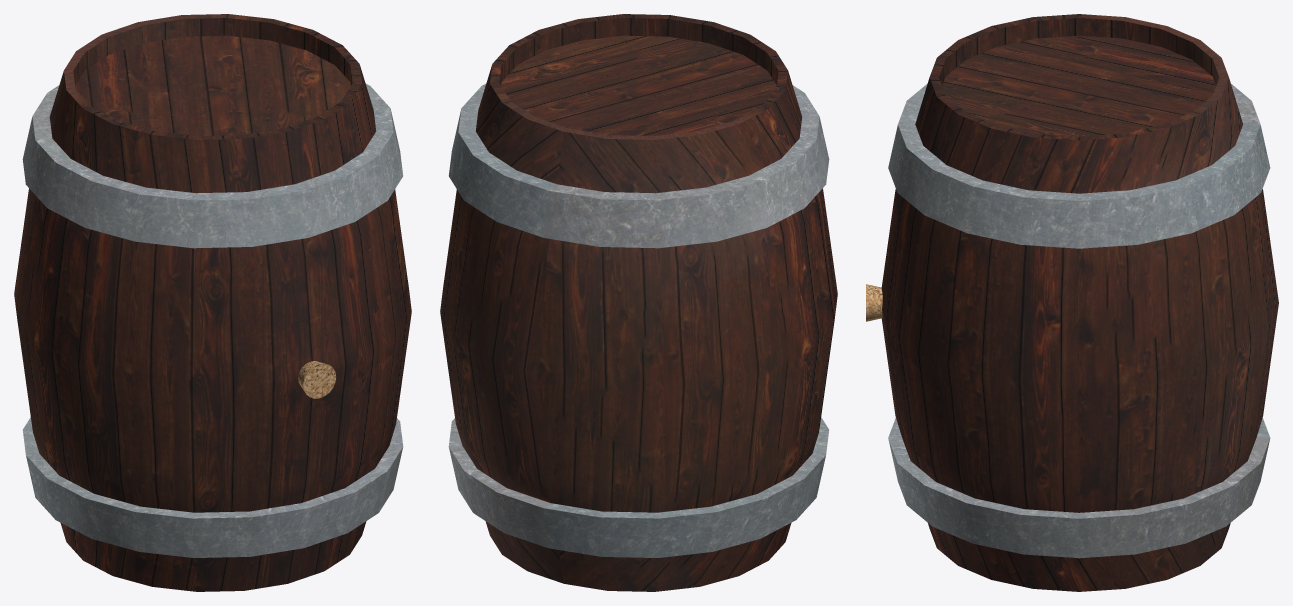
Rendered from cassaEsplosiva.fbx.
The picture shows the model from 3 angles, left to right: view 1: azimuth 30°, elevation 25°; view 2: azimuth 150°, elevation 25°; view 3: azimuth 270°, elevation 25°; orthographic projection.
Visible parts, largest first — view 1: CassaEsplosivaMesh; view 2: CassaEsplosivaMesh; view 3: CassaEsplosivaMesh.
Part boxes in pixels (x1,y1,x2,y2): CassaEsplosivaMesh: (14, 14, 411, 591); CassaEsplosivaMesh: (440, 14, 837, 591); CassaEsplosivaMesh: (866, 14, 1278, 591).
Size of the model in its own units: 4.74 by 5.91 by 4.9.
Materials: 1 (1 with a texture image).
